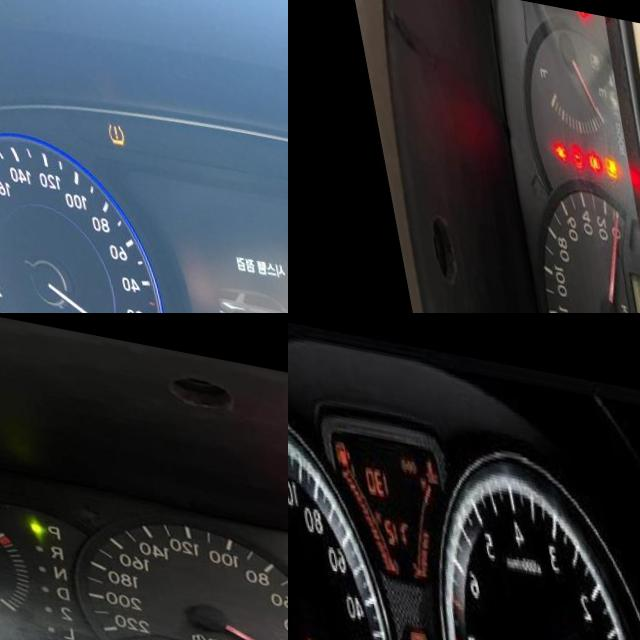Seat Belt: (548, 133, 563, 152)
